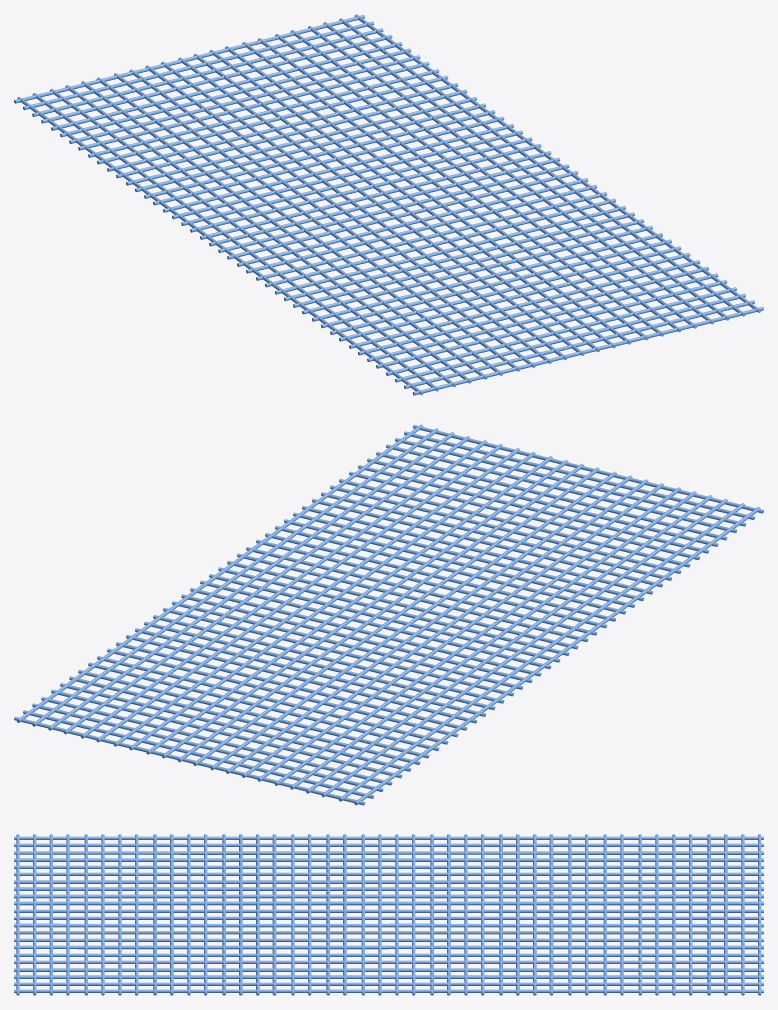
The model's file is asset.glb.
The picture shows the model from 3 angles, top to bottom: view 1: azimuth 30°, elevation 25°; view 2: azimuth 150°, elevation 25°; view 3: azimuth 270°, elevation 25°; orthographic projection. The views are drawn at different scales.
Parts seen in each view (by area): view 1: E:/NID/SEM 6/Immersive Experience/AR Origami/BlippAR stuff/G; view 2: E:/NID/SEM 6/Immersive Experience/AR Origami/BlippAR stuff/G; view 3: E:/NID/SEM 6/Immersive Experience/AR Origami/BlippAR stuff/G.
Part boxes in pixels (left/top/right/bottom): E:/NID/SEM 6/Immersive Experience/AR Origami/BlippAR stuff/G: left=14, top=14, right=763, bottom=395; E:/NID/SEM 6/Immersive Experience/AR Origami/BlippAR stuff/G: left=14, top=424, right=763, bottom=805; E:/NID/SEM 6/Immersive Experience/AR Origami/BlippAR stuff/G: left=14, top=834, right=763, bottom=995.
Bounding box in the file's own units: 0.0267 × 0.000265 × 0.0533.
